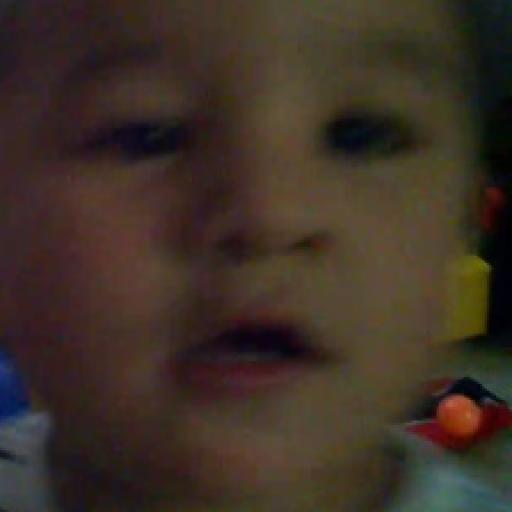Autism: (7, 11, 512, 512)
